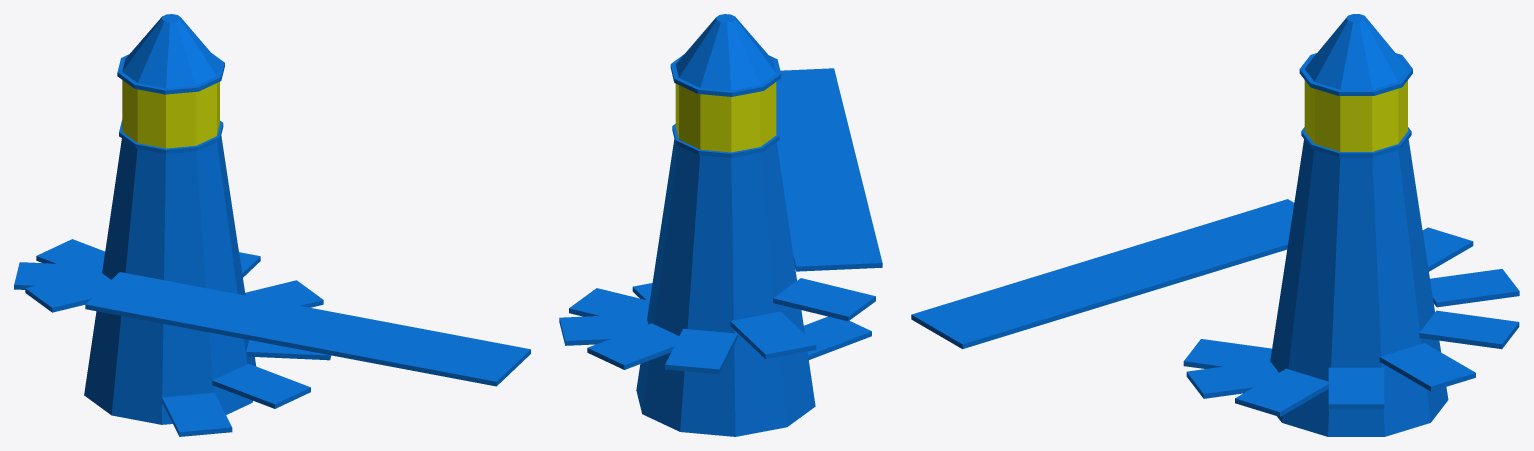
The model's file is lighthouse.fbx.
The picture shows the model from 3 angles, left to right: view 1: azimuth 30°, elevation 25°; view 2: azimuth 150°, elevation 25°; view 3: azimuth 270°, elevation 25°; orthographic projection. The views are drawn at different scales.
Parts seen in each view (by area): view 1: Cylinder, Cube.008, Cube.007, Cube.003, Cube.009, Cube, Cube.001, Cube.005, Cube.006; view 2: Cylinder, Cube.008, Cube.009, Cube, Cube.002, Cube.001, Cube.004, Cube.003, Cube.005; view 3: Cylinder, Cube.008, Cube.002, Cube.004, Cube.006, Cube.005, Cube.001, Cube.007, Cube.003, Cube.
Boxes of the visible parts, x1,y1,x2,y2 form: Cylinder: [84, 14, 256, 424]; Cube.008: [85, 272, 530, 386]; Cube.007: [212, 363, 310, 408]; Cube.003: [162, 392, 232, 436]; Cube.009: [25, 270, 110, 312]; Cube: [14, 262, 102, 289]; Cube.001: [36, 239, 104, 265]; Cube.005: [245, 280, 323, 307]; Cube.006: [246, 340, 331, 360]; Cylinder: [636, 14, 815, 436]; Cube.008: [776, 68, 882, 271]; Cube.009: [773, 278, 875, 321]; Cube: [730, 311, 816, 359]; Cube.002: [587, 323, 679, 369]; Cube.001: [665, 328, 737, 374]; Cube.004: [559, 314, 648, 345]; Cube.003: [804, 316, 871, 359]; Cube.005: [569, 288, 649, 318]; Cylinder: [1270, 14, 1448, 436]; Cube.008: [911, 199, 1294, 349]; Cube.002: [1419, 310, 1519, 349]; Cube.004: [1379, 343, 1475, 391]; Cube.006: [1235, 368, 1328, 416]; Cube.005: [1328, 367, 1384, 409]; Cube.001: [1430, 269, 1519, 307]; Cube.007: [1186, 360, 1278, 398]; Cube.003: [1183, 339, 1271, 368]; Cube: [1422, 227, 1473, 271].
Bounding box in the file's own units: 826 × 967 × 1396.
